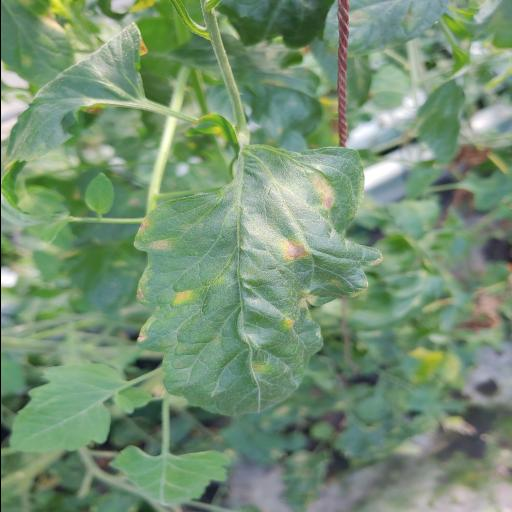disease_tomato: (130, 145, 382, 415)
